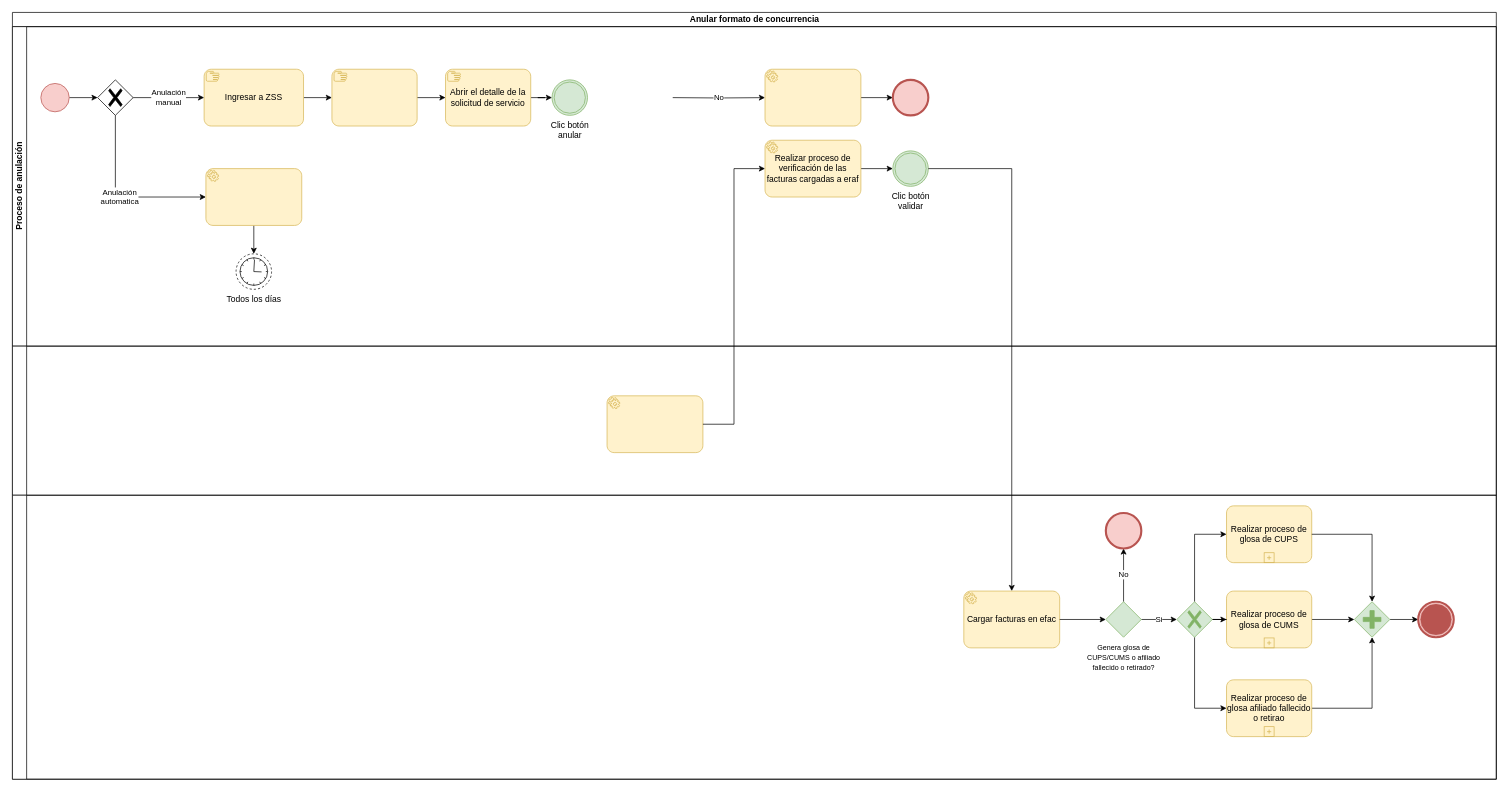
The diagram is 1509 pixels wide and 792 high, and some of its shapes have lost their labels. The box of each missing label's shape, as (x1, y1, x2, y2) in pixels:
Buscar solicitud de servicio A3 hospitalaria: (331, 69, 417, 126)
Cargar facturas en las tablas temporales: (606, 395, 703, 453)
Generar informe de reporte de errores de estructura: (764, 69, 861, 126)
modulo efac: (12, 495, 1496, 779)
modulo eraf: (12, 345, 1496, 495)
Tarea programada para realizar anulación automática: (205, 168, 302, 225)
